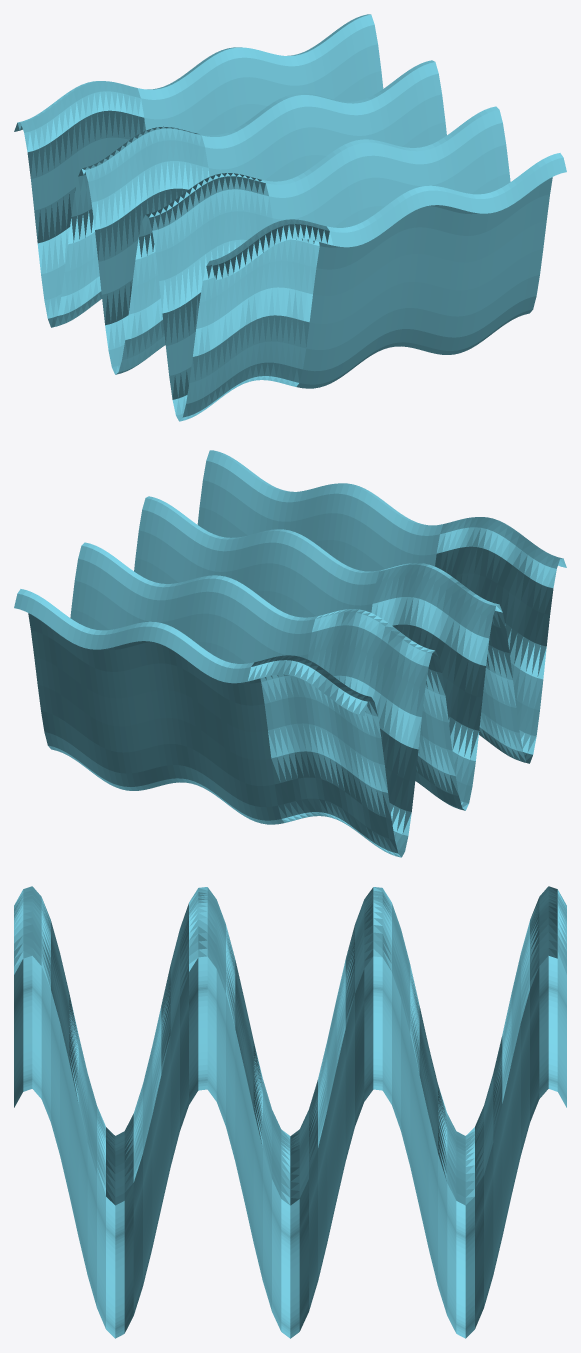
3 views of the same model, one above another, from view 1: azimuth 30°, elevation 25°; view 2: azimuth 150°, elevation 25°; view 3: azimuth 270°, elevation 25° (orthographic). The views are drawn at different scales.
Bounding box in the file's own units: 4 × 2.25 × 4.
